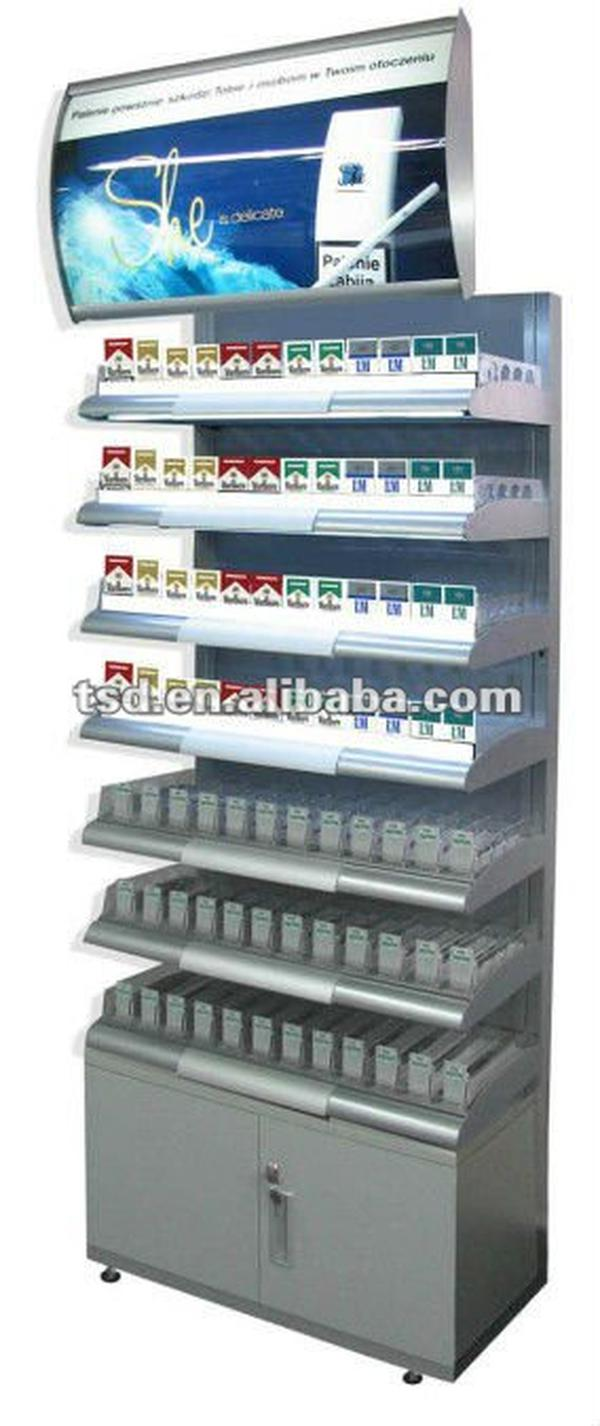marlboro_mentol: (314, 459, 342, 503), (318, 339, 350, 375), (290, 583, 318, 619), (322, 583, 350, 619), (286, 343, 314, 375), (286, 459, 306, 495)
marlboro_red: (102, 443, 134, 487), (250, 459, 282, 503), (102, 339, 130, 379), (222, 459, 250, 495), (258, 343, 282, 379), (110, 559, 130, 599), (226, 347, 254, 375), (230, 575, 250, 607), (262, 579, 282, 611), (110, 671, 130, 703)
